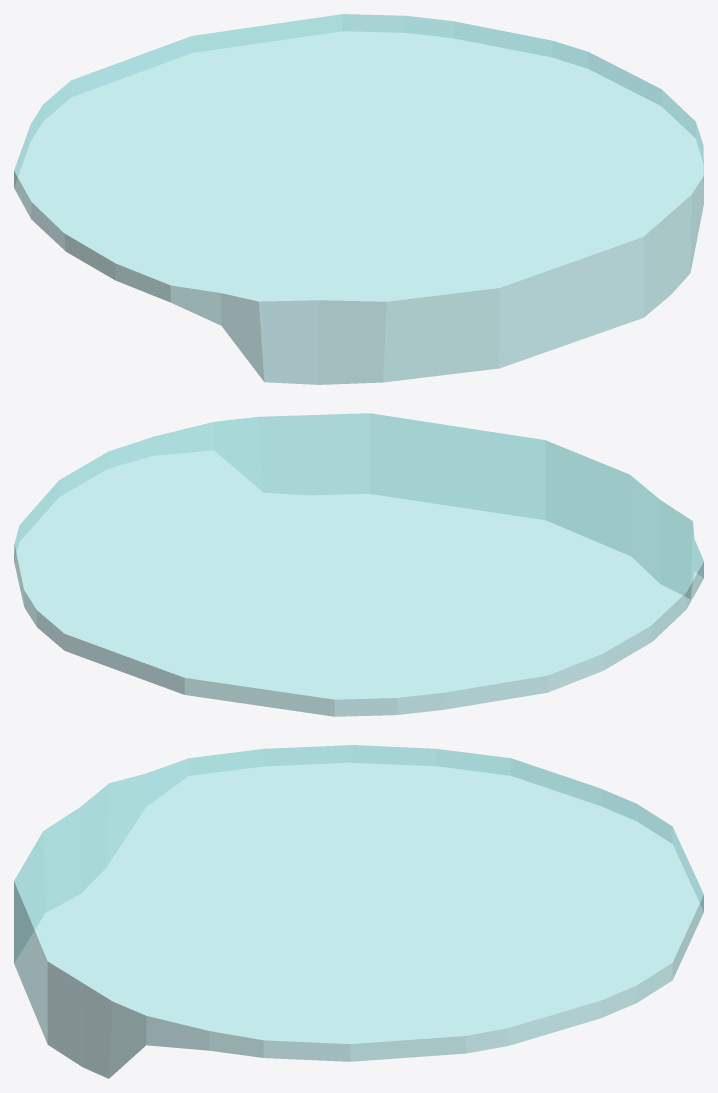
The model's file is Zee hoog.fbx.
3 renders of one model, top to bottom at view 1: azimuth 30°, elevation 25°; view 2: azimuth 150°, elevation 25°; view 3: azimuth 270°, elevation 25°, orthographic. The views are drawn at different scales.
Visible parts, largest first — view 1: Water_3; view 2: Water_3; view 3: Water_3.
Part boxes in pixels (x1,y1,x2,y2): Water_3: (14,14,703,384); Water_3: (14,413,703,716); Water_3: (14,745,703,1078).
Size of the model in its own units: 16.3 by 2.21 by 15.89.
